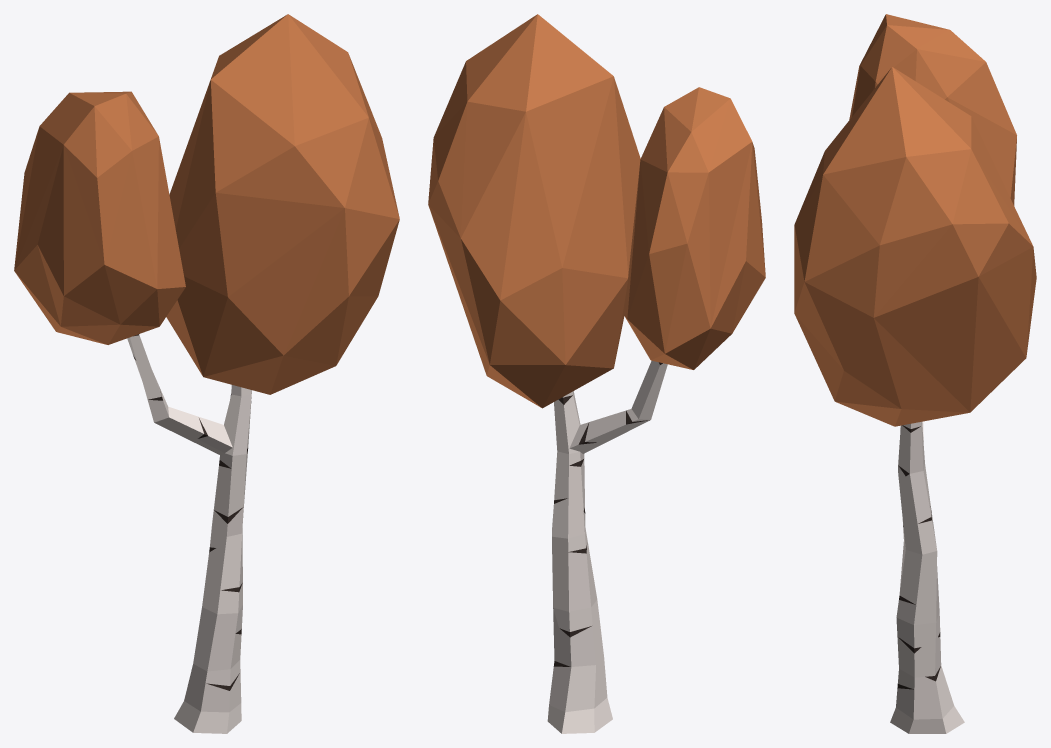
Rendered from SM_Birch_03.fbx.
The picture shows the model from 3 angles, left to right: view 1: azimuth 30°, elevation 25°; view 2: azimuth 150°, elevation 25°; view 3: azimuth 270°, elevation 25°; orthographic projection. The views are drawn at different scales.
Parts seen in each view (by area): view 1: SM_Birch_03; view 2: SM_Birch_03; view 3: SM_Birch_03.
Part boxes in pixels (<box>): SM_Birch_03: <box>14,14,399,733</box>; SM_Birch_03: <box>428,14,765,733</box>; SM_Birch_03: <box>794,14,1036,733</box>.
Bounding box in the file's own units: 827 × 1734 × 556.
